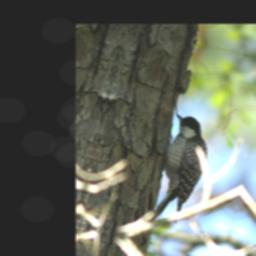Woodpecker: (147, 111, 217, 232)
